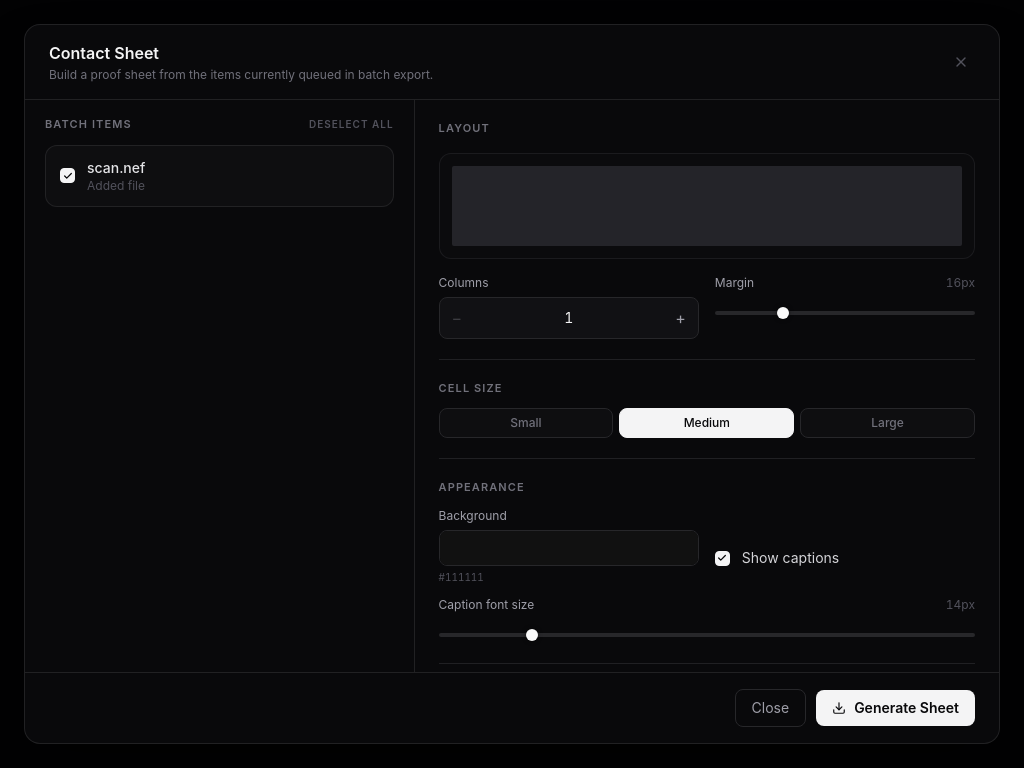
ContactSheetModal › shows a clear error when a RAW contact sheet entry is missing a native path
Click the button "Generate Sheet": coordinates (896, 708) [816,690,975,726]
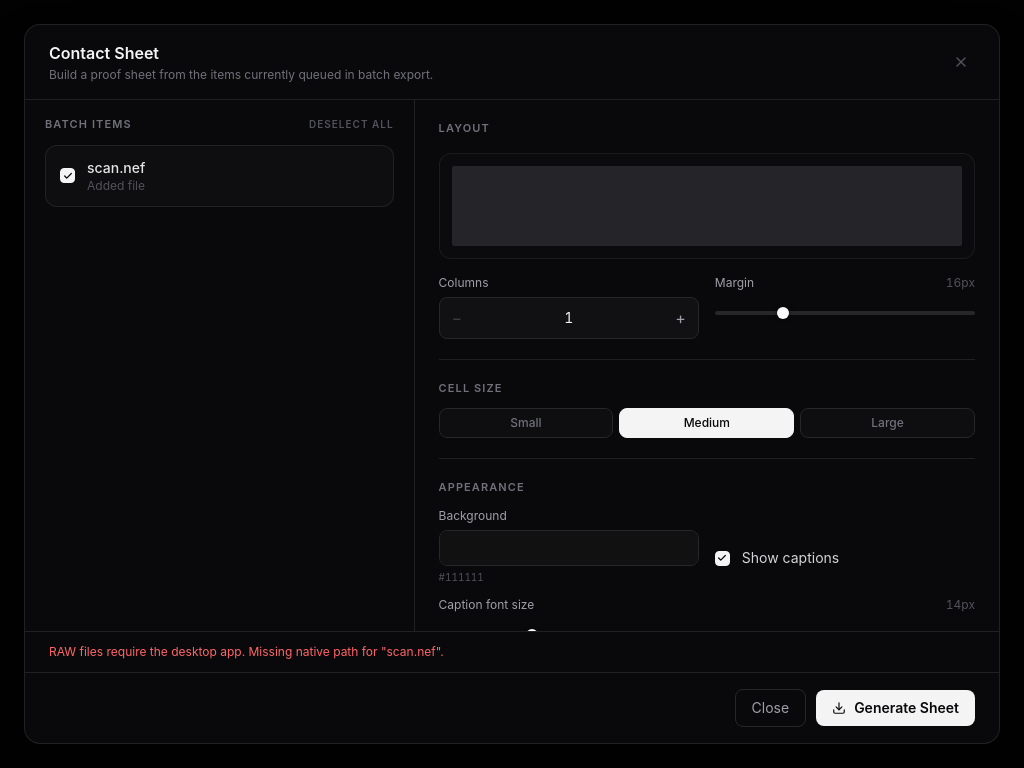
Result: the text "RAW files require the desktop app. Missing native path for \"scan.nef\"." is shown at [25,631,999,672]
